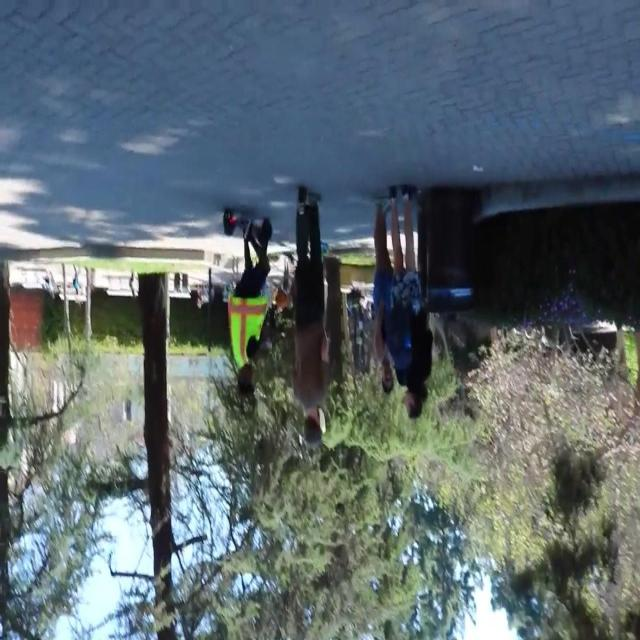jacket: (220, 288, 270, 366)
